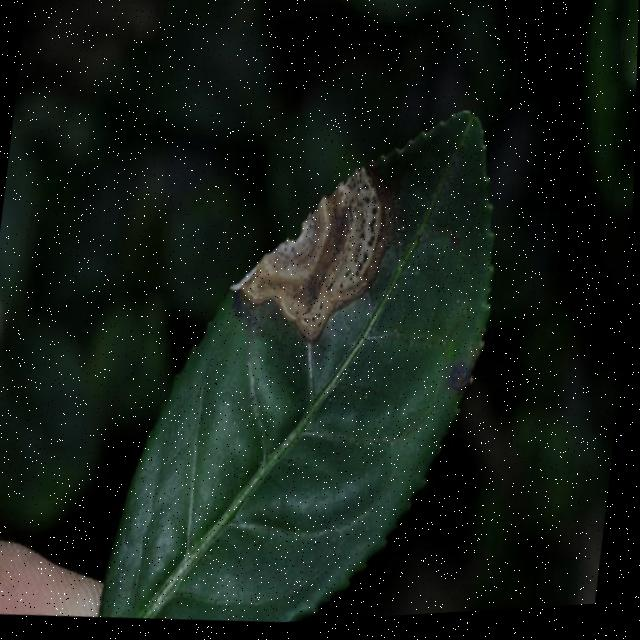Tea cloud leaf blight: (217, 156, 401, 348)
